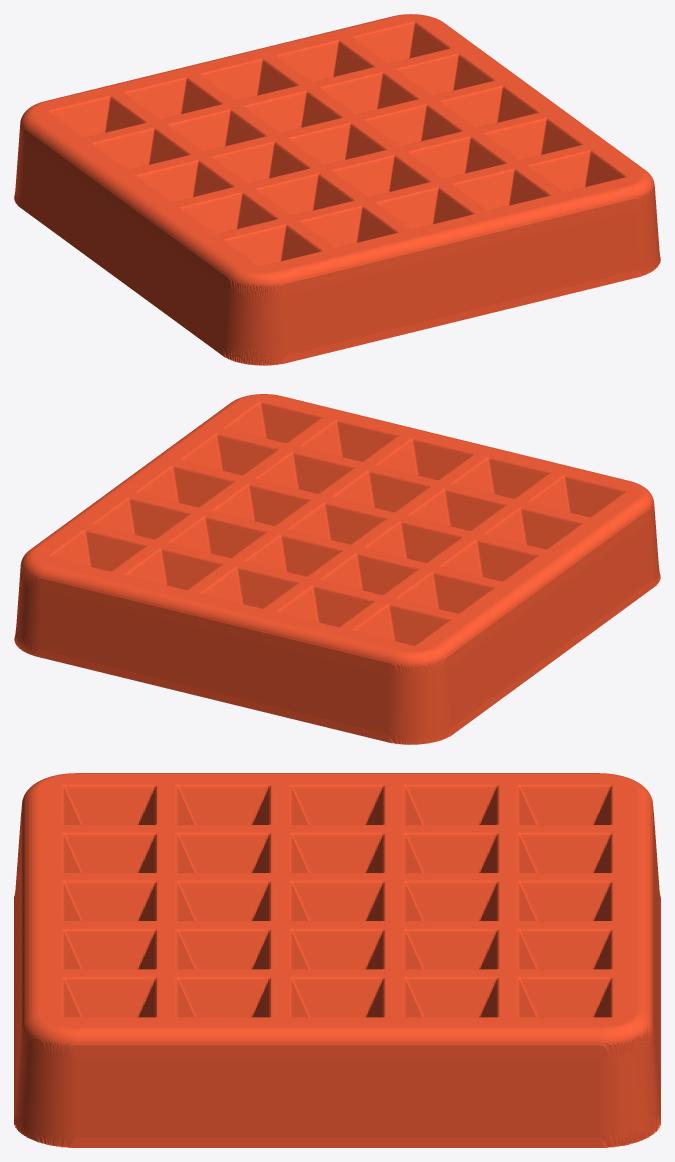
The model's file is mold.glb.
The picture shows the model from 3 angles, top to bottom: view 1: azimuth 30°, elevation 25°; view 2: azimuth 150°, elevation 25°; view 3: azimuth 270°, elevation 25°; orthographic projection. The views are drawn at different scales.
Visible parts, largest first — view 1: geometry_0; view 2: geometry_0; view 3: geometry_0.
Boxes of the visible parts, x1,y1,x2,y2 form: geometry_0: (14, 14, 660, 365); geometry_0: (14, 394, 660, 744); geometry_0: (14, 773, 660, 1147).
Bounding box in the file's own units: 0.0936 × 0.0176 × 0.0936.
